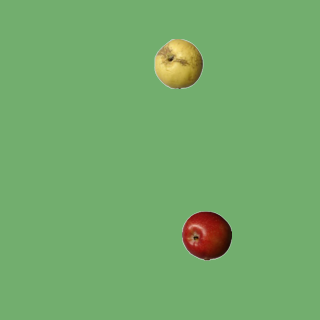Apple Braeburn: (181, 210, 231, 260)
Apple Golden 1: (153, 38, 203, 88)
